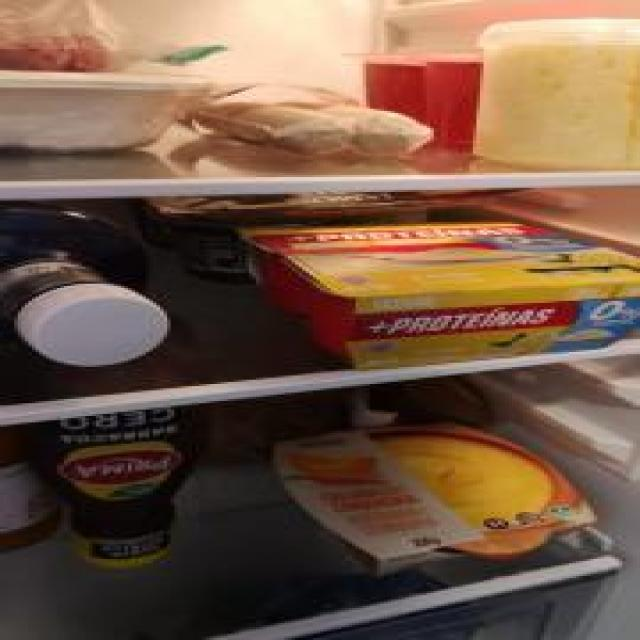sausage: (178, 72, 452, 168)
